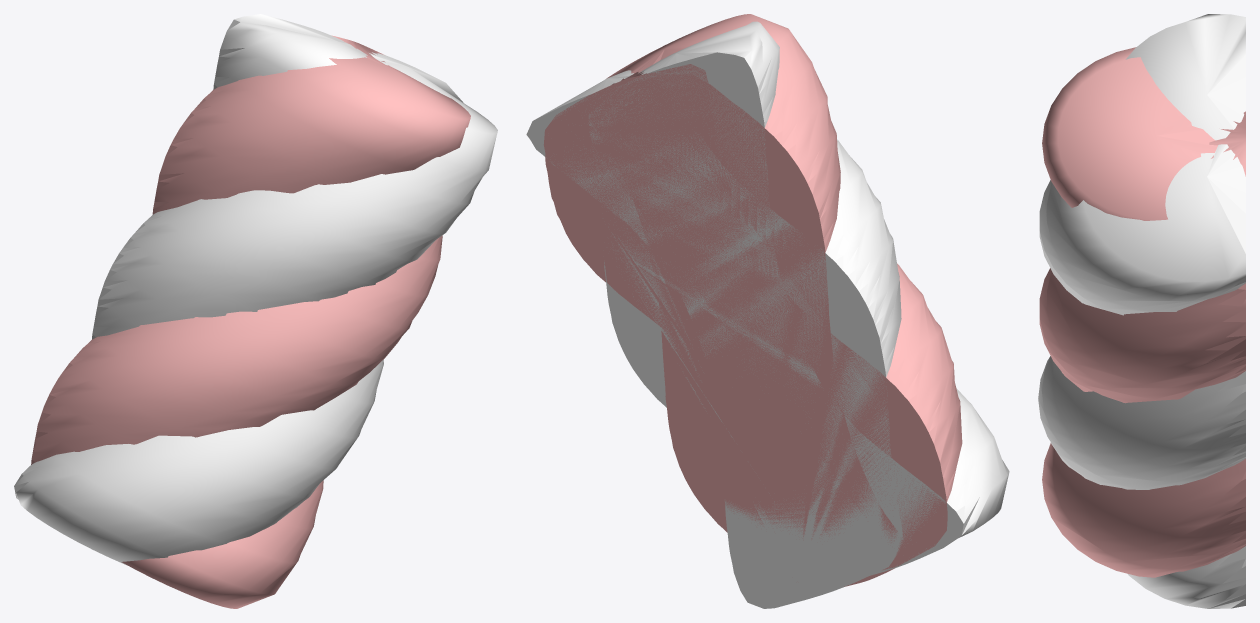
The model's file is marshmallow.01.all.glb.
3 renders of one model, left to right at view 1: azimuth 30°, elevation 25°; view 2: azimuth 150°, elevation 25°; view 3: azimuth 270°, elevation 25°, orthographic. The views are drawn at different scales.
Visible parts, largest first — view 1: Circle.464; view 2: Circle.464; view 3: Circle.464.
Boxes of the visible parts, x1,y1,x2,y2 form: Circle.464: (14, 14, 497, 608); Circle.464: (526, 14, 1009, 608); Circle.464: (1038, 14, 1245, 608).
Bounding box in the file's own units: 13.14 × 15.42 × 4.83.
